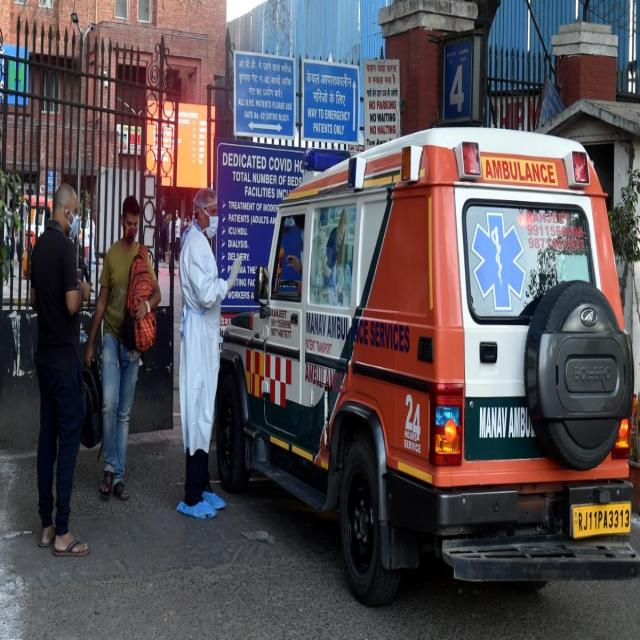emergency: (216, 129, 640, 604)
